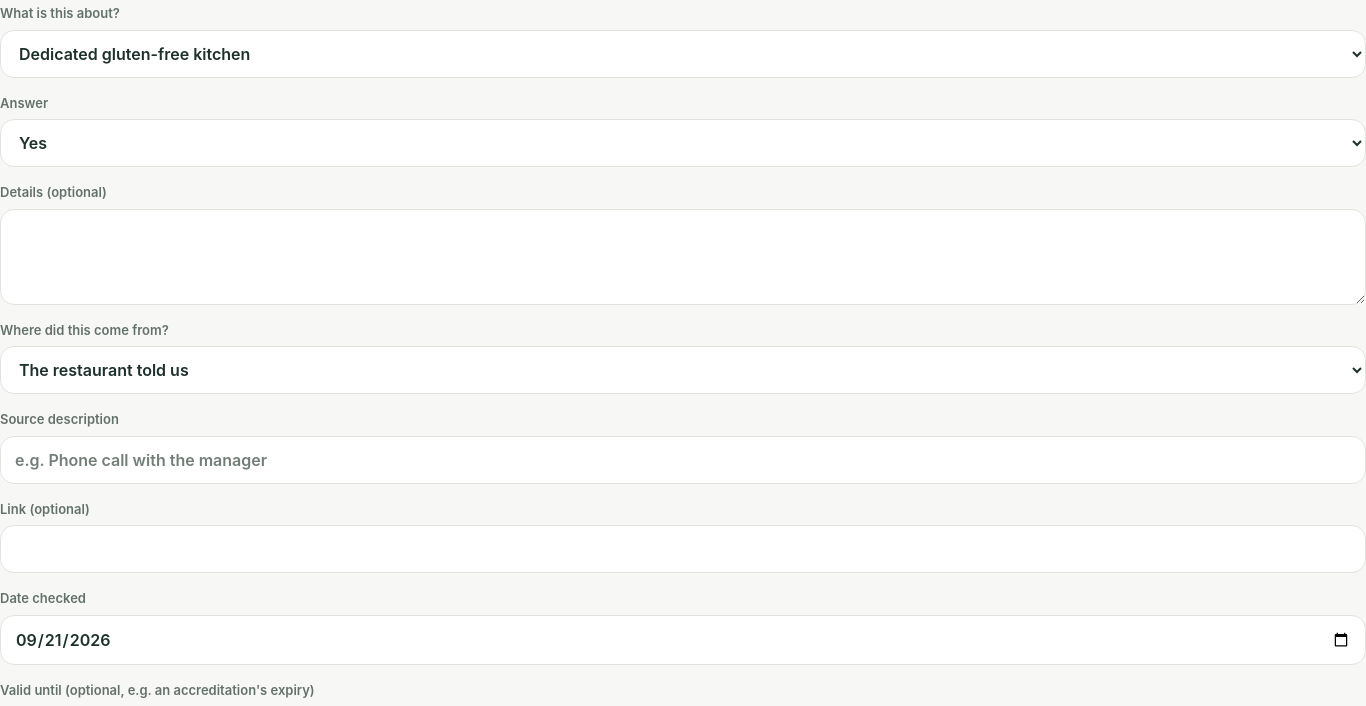
Test: ClaimFormPage › shows the not-found outcome when the restaurant was deleted meanwhile
Type "Manager" into the field with test id "claim-source-label" at (683, 460), box [0,436,1365,484]
(page scrolled)
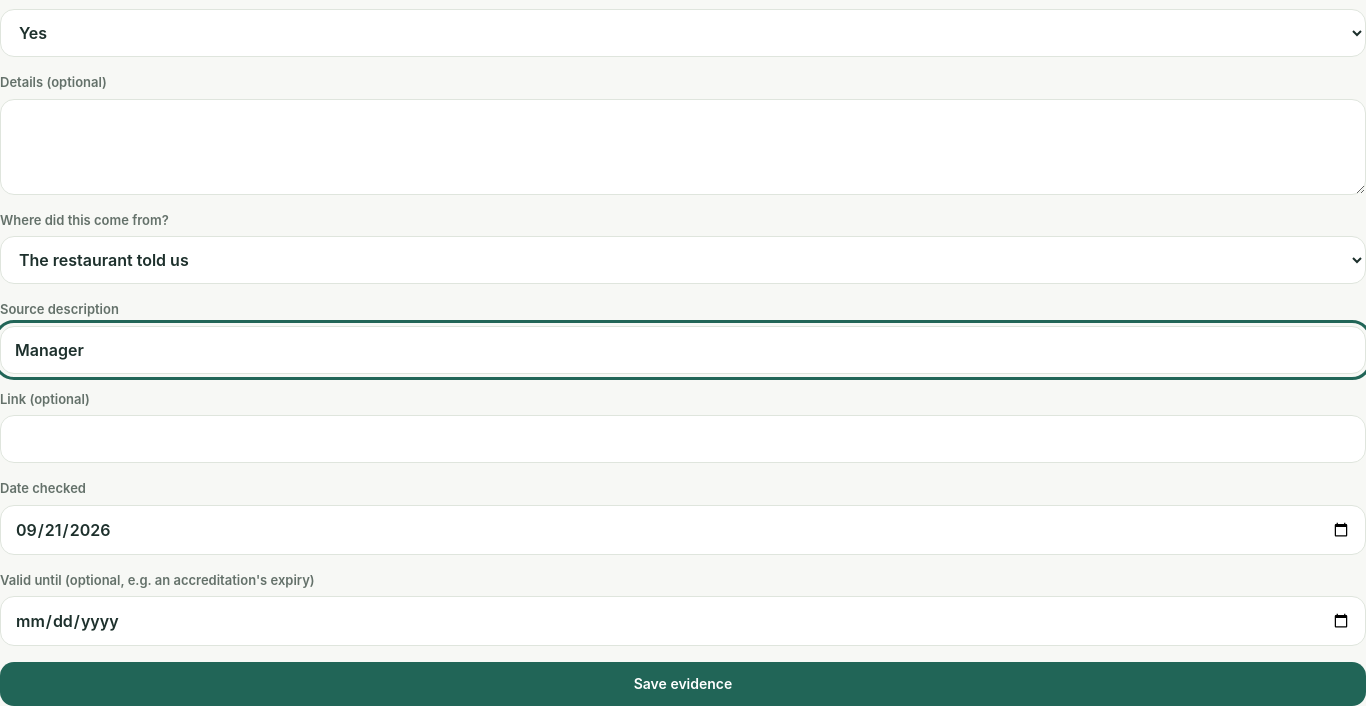
Click the button with test id "claim-submit" at (683, 684), box [0,662,1365,705]
(page scrolled)
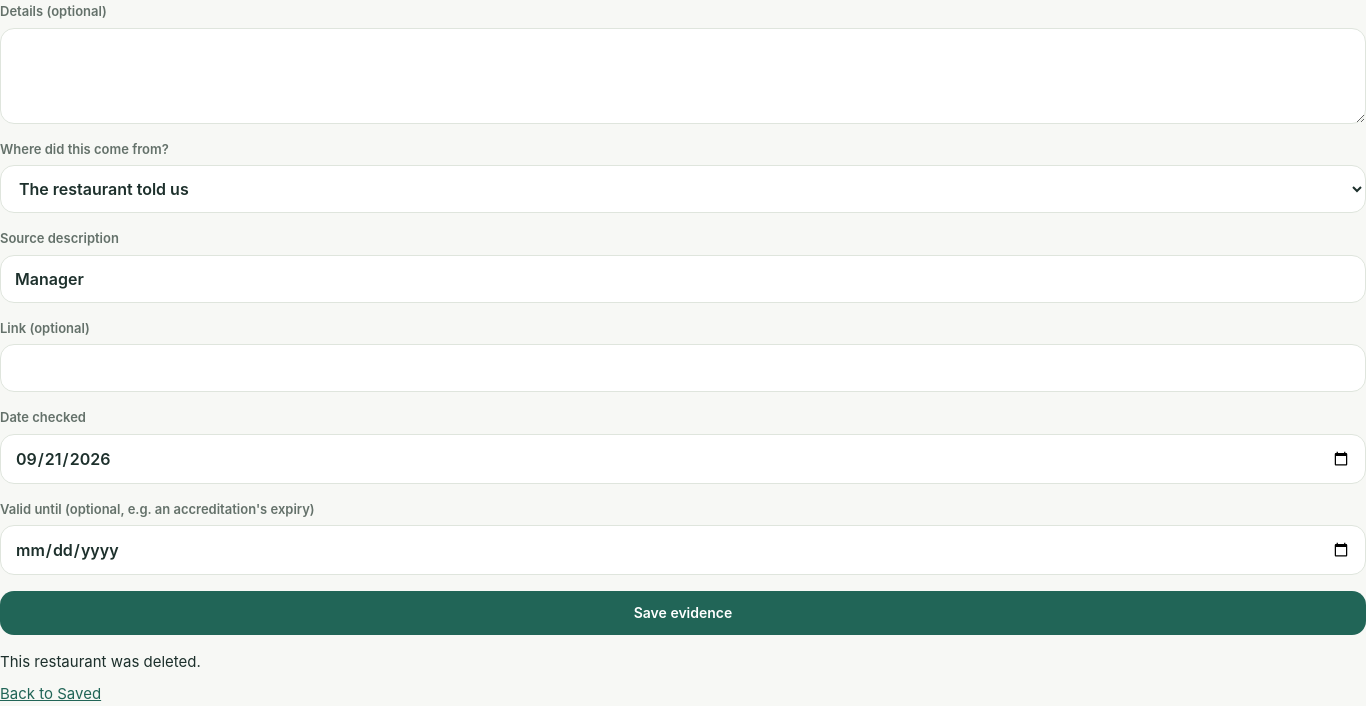
Now the message with test id "claim-save-outcome" shows "This restaurant was deleted.", box [0,652,201,671]
